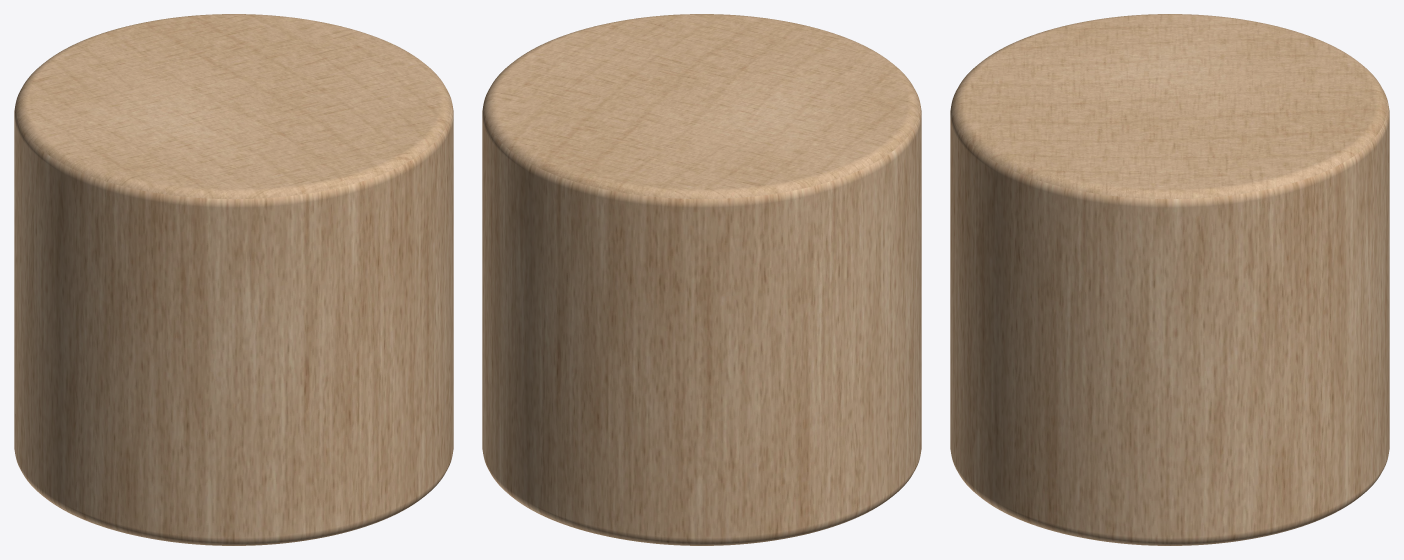
The model's file is pawn-white-hd.glb.
3 views of the same model, side by side, from view 1: azimuth 30°, elevation 25°; view 2: azimuth 150°, elevation 25°; view 3: azimuth 270°, elevation 25° (orthographic).
Parts seen in each view (by area): view 1: Cylindra_Pěšec_bílý; view 2: Cylindra_Pěšec_bílý; view 3: Cylindra_Pěšec_bílý.
Part boxes in pixels (x1,y1,x2,y2): Cylindra_Pěšec_bílý: [14, 14, 453, 545]; Cylindra_Pěšec_bílý: [482, 14, 921, 545]; Cylindra_Pěšec_bílý: [950, 14, 1389, 545].
Bounding box in the file's own units: 0.4928 × 0.44 × 0.4928.
2 materials, 2 textured.
